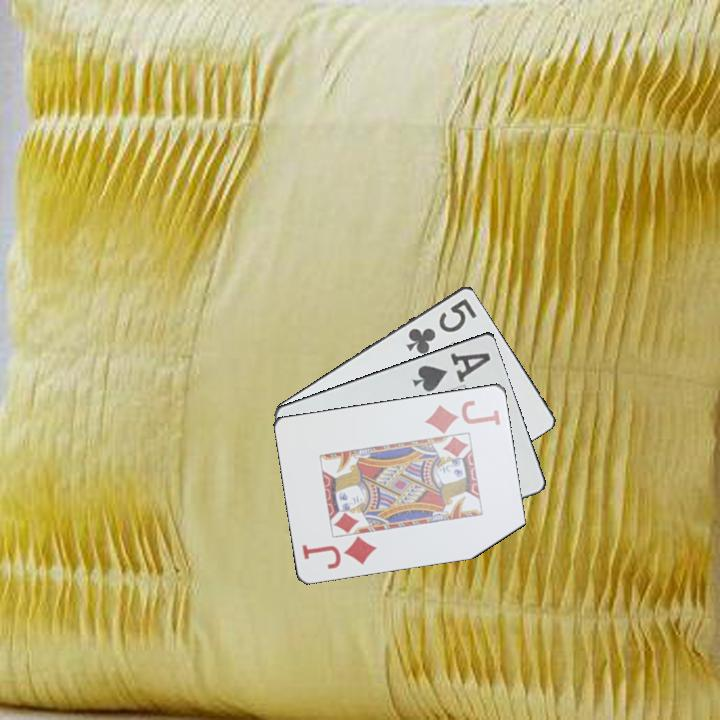5c: (403, 294, 480, 357)
As: (408, 349, 494, 394)
Jd: (421, 396, 504, 435), (299, 533, 380, 572)
